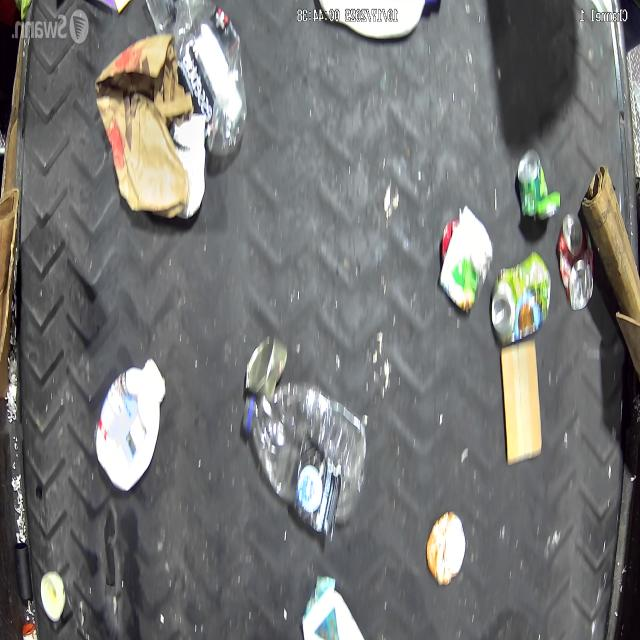can: (490, 252, 550, 346), (557, 212, 594, 308), (245, 334, 285, 406), (516, 151, 553, 224)
plastic_bottle: (242, 381, 368, 539)
